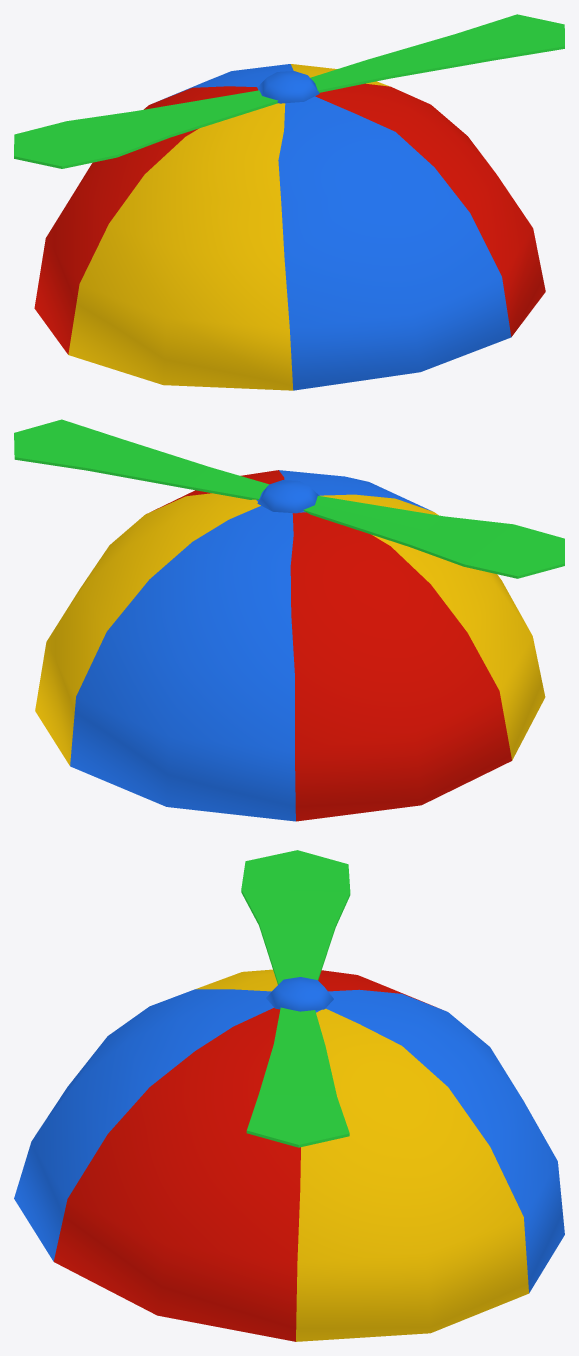
Rendered from accessory-spinny_hat.glb.
The picture shows the model from 3 angles, top to bottom: view 1: azimuth 30°, elevation 25°; view 2: azimuth 150°, elevation 25°; view 3: azimuth 270°, elevation 25°; orthographic projection. The views are drawn at different scales.
Parts seen in each view (by area): view 1: accessory__Propeller__0, accessory__fan__1; view 2: accessory__Propeller__0, accessory__fan__1; view 3: accessory__Propeller__0, accessory__fan__1.
Part boxes in pixels (x1,y1,x2,y2): accessory__Propeller__0: (34,64,545,390); accessory__fan__1: (14,14,564,168); accessory__Propeller__0: (35,470,545,821); accessory__fan__1: (14,419,564,578); accessory__Propeller__0: (14,969,564,1341); accessory__fan__1: (241,850,350,1147).
Bounding box in the file's own units: 0.5609 × 0.2257 × 0.4484.
